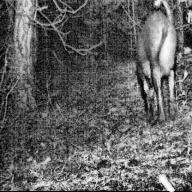boar: (133, 7, 179, 123)
